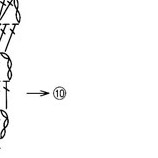double treble: (0, 20, 27, 71), (0, 81, 14, 111), (0, 53, 15, 81)
enseble_chain: (0, 22, 26, 58), (25, 85, 52, 102), (1, 52, 15, 80), (8, 0, 24, 24), (53, 85, 66, 100)
